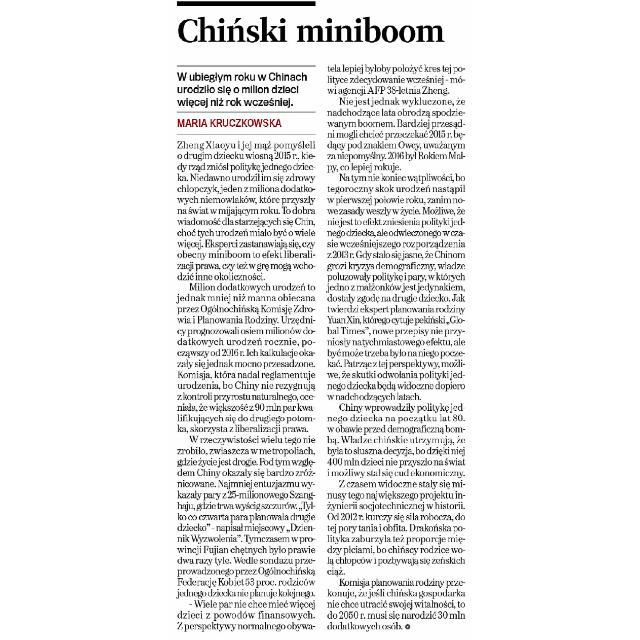author: (174, 8, 460, 52), (174, 116, 290, 132)
body: (324, 59, 470, 633), (174, 138, 322, 636)
lead: (174, 70, 310, 108)
